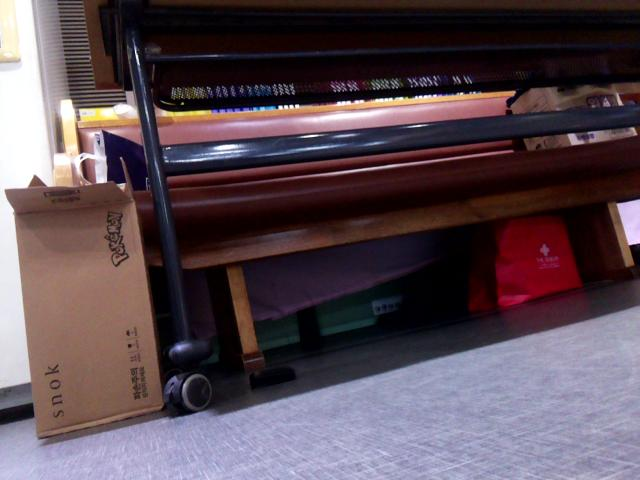wallet: (247, 363, 299, 395)
